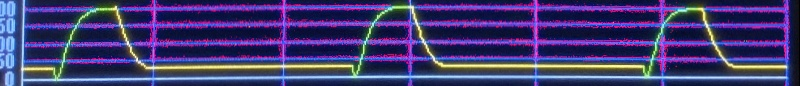leakage: (21, 0, 777, 86)
